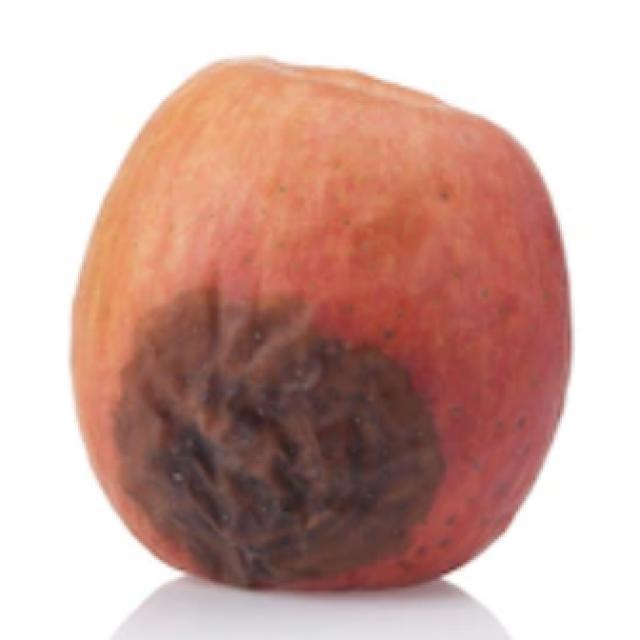Rotten: (57, 52, 578, 598)
